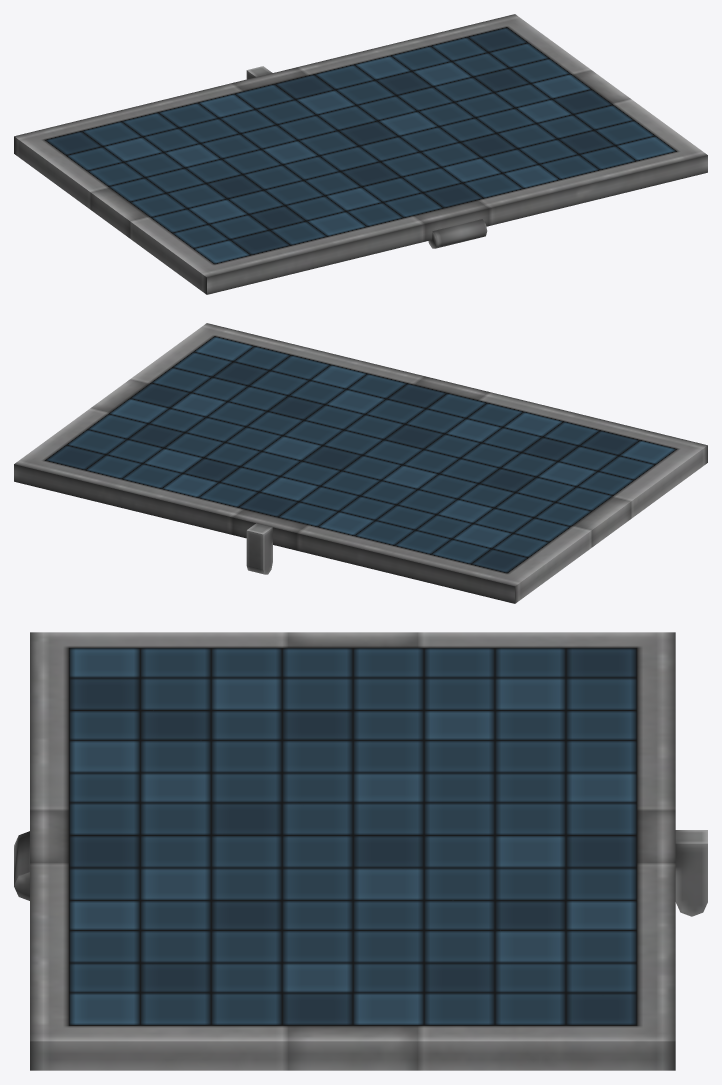
File: grus_solar_srf_2.obj
The picture shows the model from 3 angles, top to bottom: view 1: azimuth 30°, elevation 25°; view 2: azimuth 150°, elevation 25°; view 3: azimuth 270°, elevation 25°; orthographic projection. The views are drawn at different scales.
Visible parts, largest first — view 1: 1; view 2: 1; view 3: 1.
Part boxes in pixels (x1,y1,x2,y2): 1: (14, 14, 707, 294); 1: (14, 323, 707, 603); 1: (14, 632, 707, 1070).
Bounding box in the file's own units: 0.75 × 0.0625 × 0.5375.
Materials: 1 (1 with a texture image).
